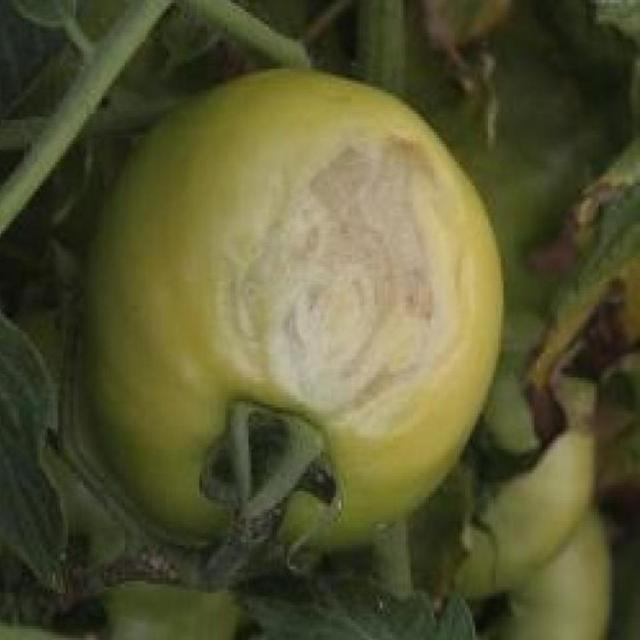Sunscald Fruit: (155, 85, 314, 283)
